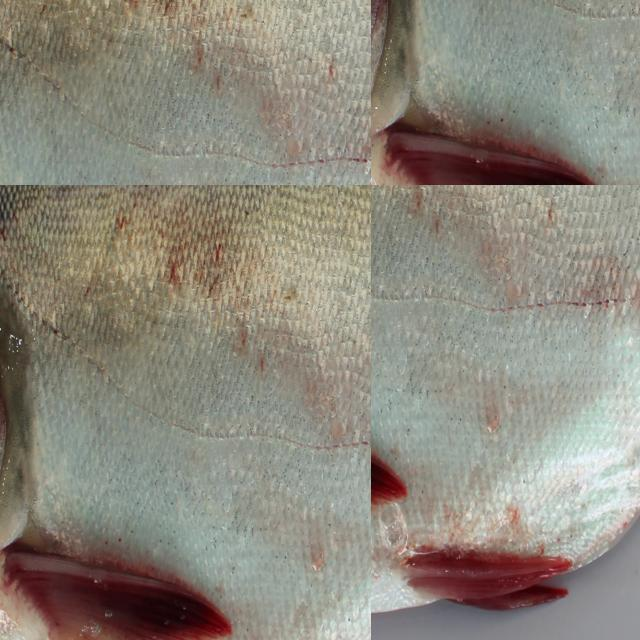fish: (371, 185, 640, 640)
